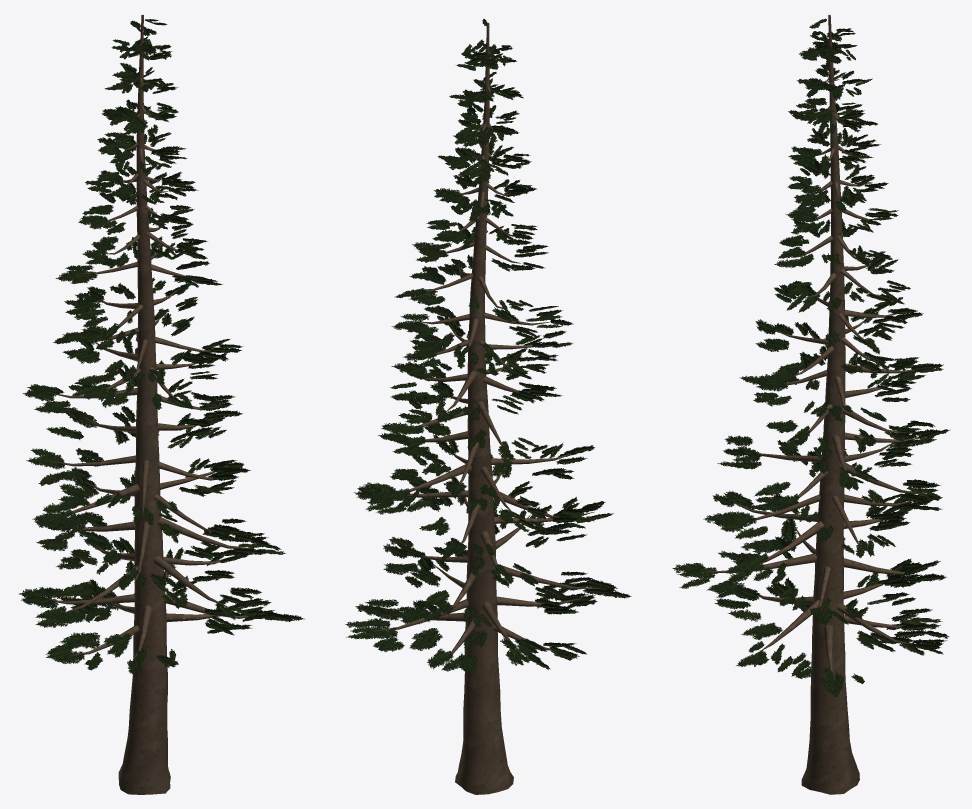
The model's file is pine_tree_002_v3_a_LOD2.gltf.
The picture shows the model from 3 angles, left to right: view 1: azimuth 30°, elevation 25°; view 2: azimuth 150°, elevation 25°; view 3: azimuth 270°, elevation 25°; orthographic projection.
Parts seen in each view (by area): view 1: PineTree002_V3_DeepFir_LOD2; view 2: PineTree002_V3_DeepFir_LOD2; view 3: PineTree002_V3_DeepFir_LOD2.
Boxes of the visible parts, x1,y1,x2,y2 form: PineTree002_V3_DeepFir_LOD2: (18,15,304,794); PineTree002_V3_DeepFir_LOD2: (345,19,631,794); PineTree002_V3_DeepFir_LOD2: (672,15,950,794).
Size of the model in its own units: 8.13 by 22.59 by 7.69.
Materials: 2 (2 with a texture image).
